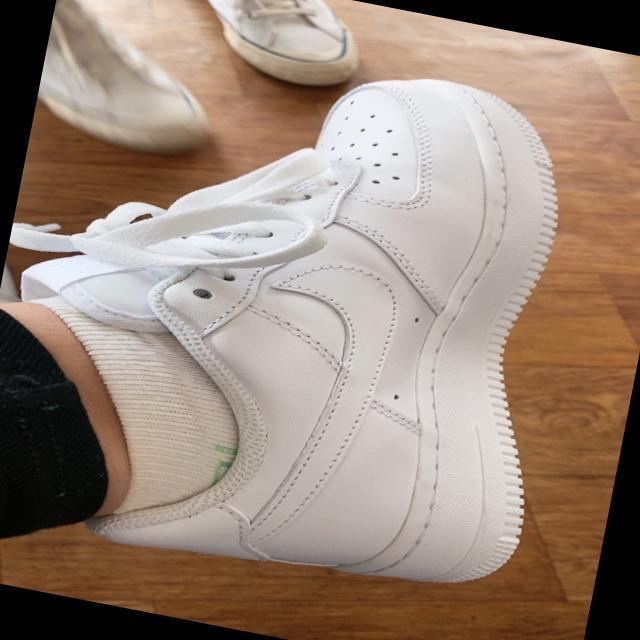nike original air force: (0, 18, 609, 620)
